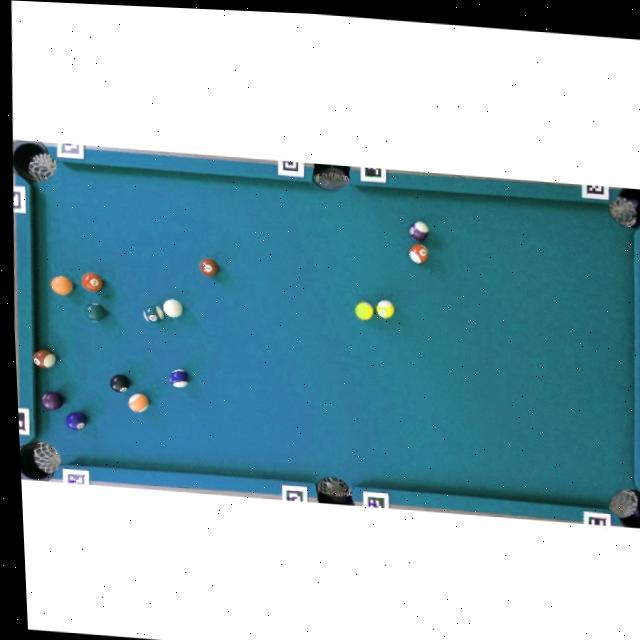cue ball: (162, 298, 183, 318)
other: (39, 390, 65, 411), (31, 348, 55, 370), (127, 392, 150, 414), (50, 275, 74, 296), (408, 220, 429, 242), (80, 272, 103, 292), (65, 411, 88, 431), (408, 243, 428, 265), (142, 304, 164, 324), (84, 302, 106, 322), (198, 257, 219, 277), (375, 299, 395, 320), (109, 373, 130, 393), (354, 301, 374, 321), (169, 368, 189, 388)
